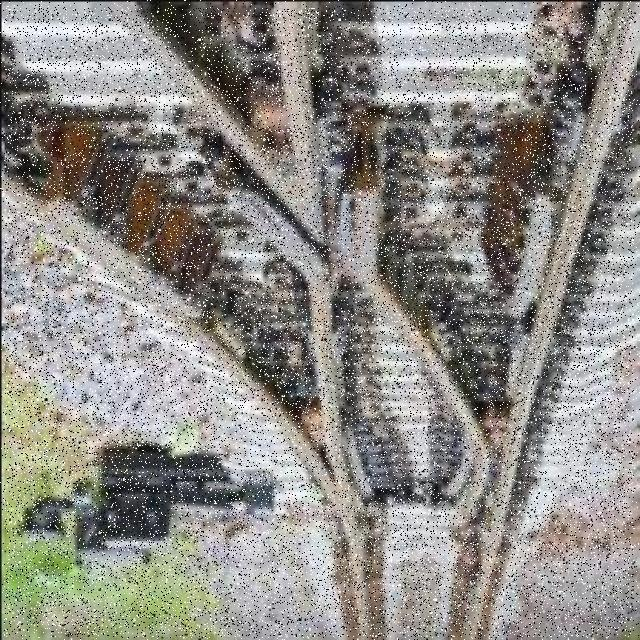rail: (6, 9, 635, 638)
